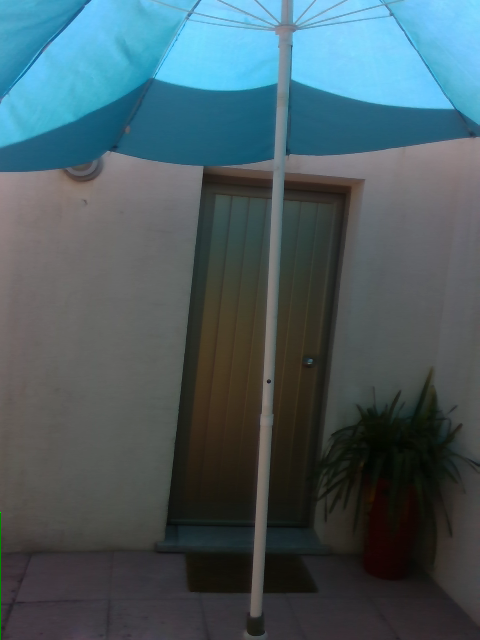closed: (163, 166, 364, 549)
